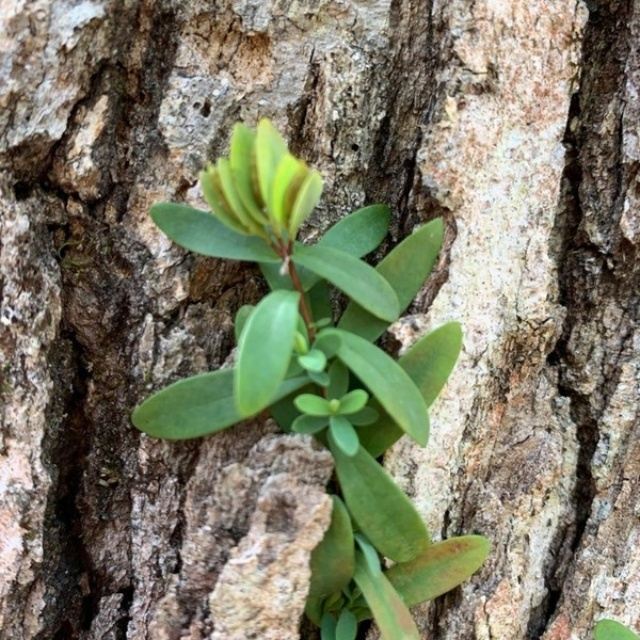obstacle: (161, 126, 478, 614)
